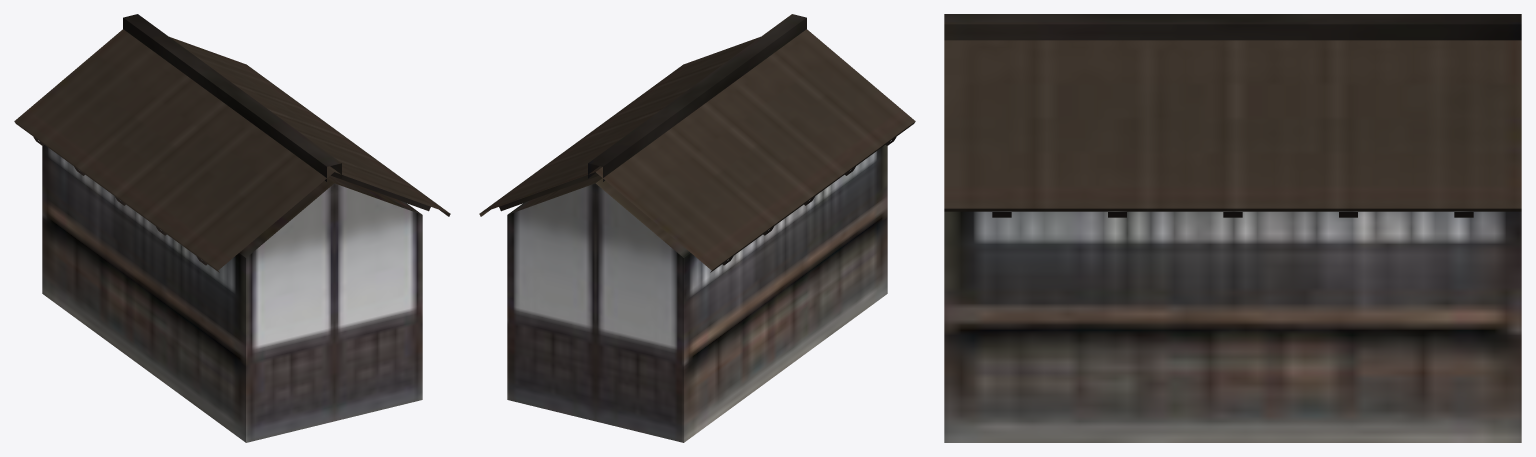
Rendered from Nagaya.fbx.
The picture shows the model from 3 angles, left to right: view 1: azimuth 30°, elevation 25°; view 2: azimuth 150°, elevation 25°; view 3: azimuth 270°, elevation 25°; orthographic projection. The views are drawn at different scales.
Parts seen in each view (by area): view 1: pCube1; view 2: pCube1; view 3: pCube1.
Part boxes in pixels (box(x1,y1,x2,y2)): pCube1: box(14, 14, 450, 442); pCube1: box(479, 14, 915, 442); pCube1: box(944, 14, 1521, 442).
Size of the model in its own units: 39.48 by 41.6 by 60.
